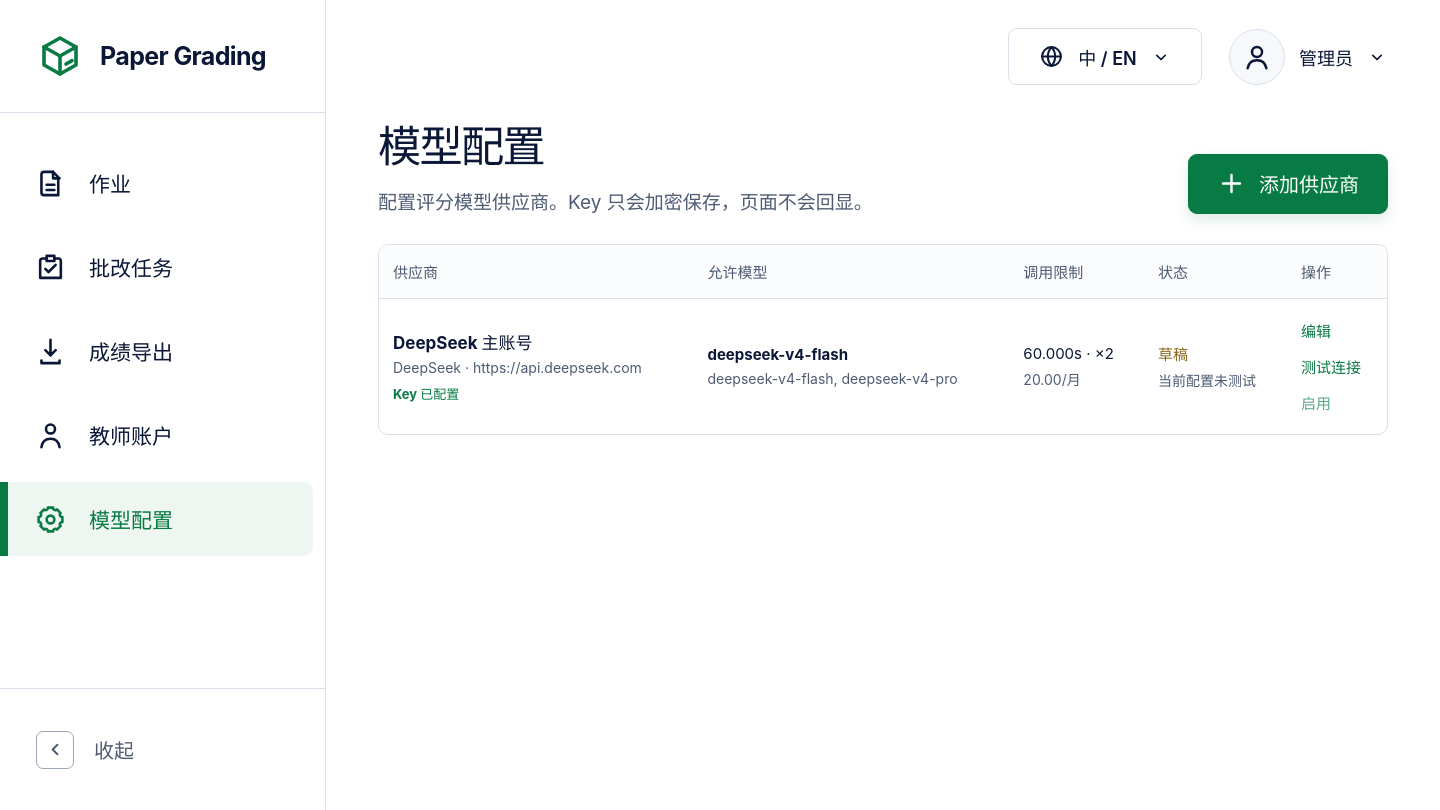
Test: 管理员模型配置 › 编辑时 Key 输入框为空，创建后也不在页面回显
The image size is (1440, 810).
Expected: the text "DeepSeek 主账号" is shown, [393,334,532,354]
Click the button "编辑": (1316, 330) [1301,315,1331,346]
(page scrolled)
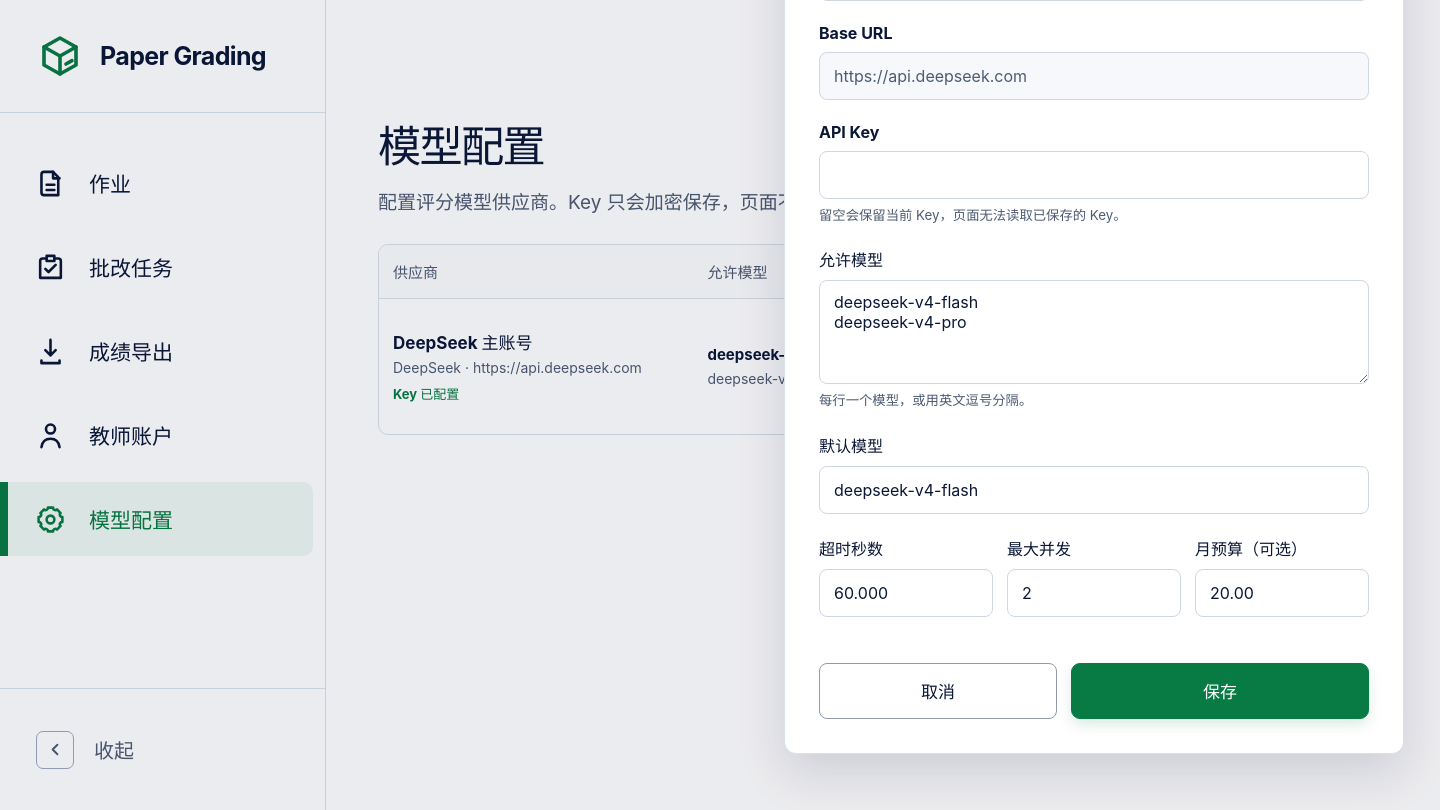
Expected: the password field labelled "API Key" is empty, [819,151,1369,199]
Click the button "取消": (938, 691) [819,663,1057,719]
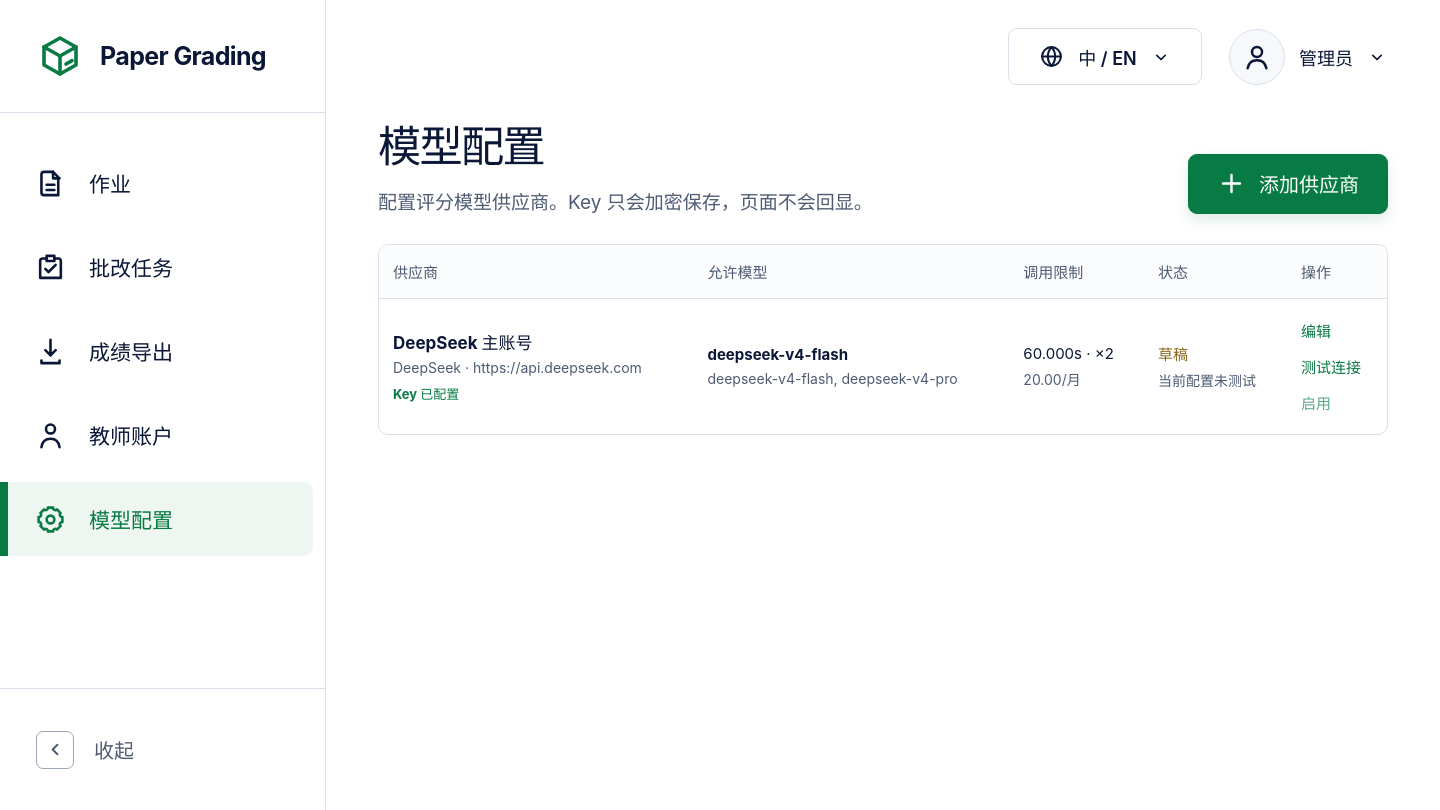
Click the button "添加供应商": (1288, 184) [1188,154,1388,214]
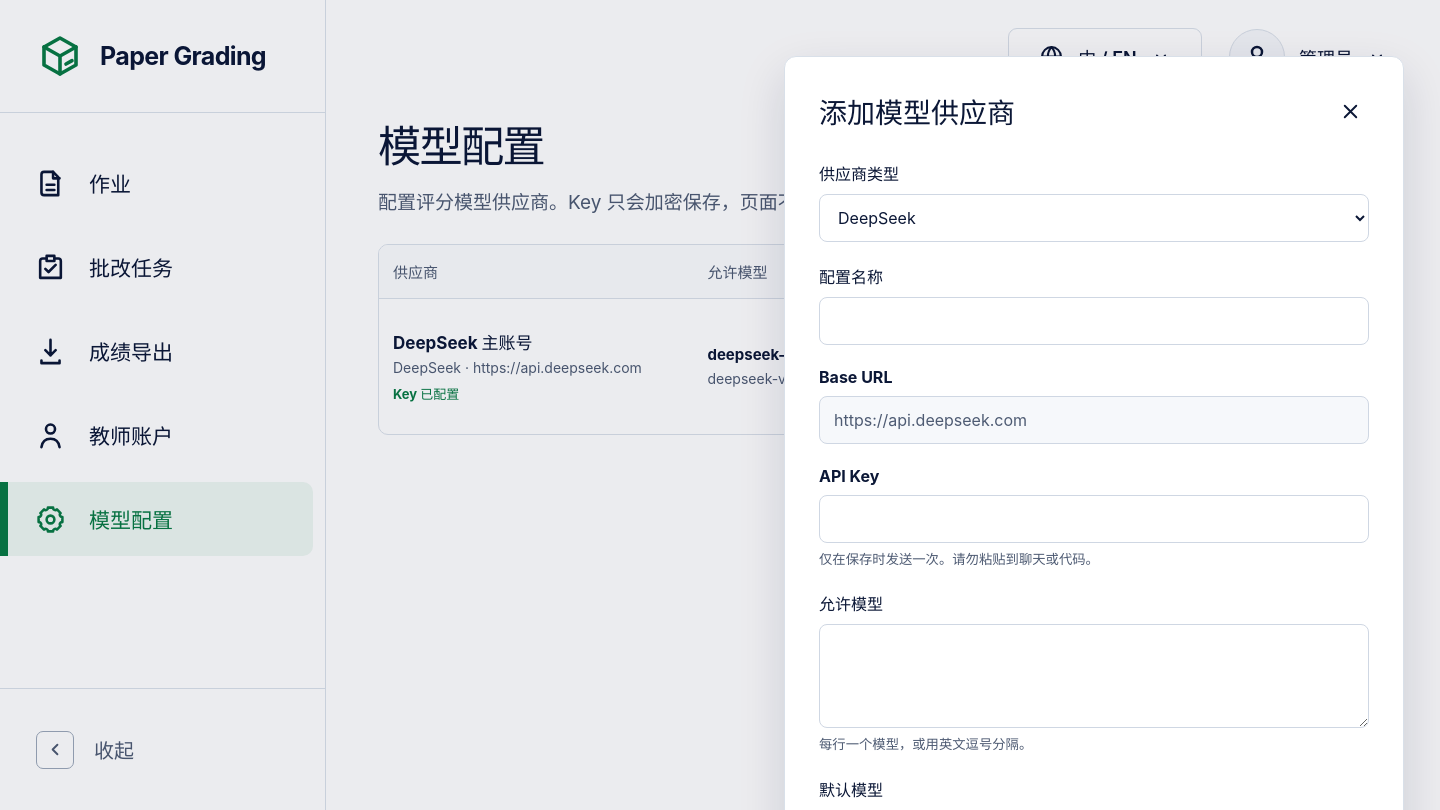
In the field labelled "配置名称": (1094, 321) [819,297,1369,345], type "DeepSeek 新账号"
In the password field labelled "API Key": (1094, 519) [819,495,1369,543], type "one-time-canary"
In the text box labelled "允许模型": (1094, 676) [819,624,1369,728], type "deepseek-v4-flash"
(page scrolled)
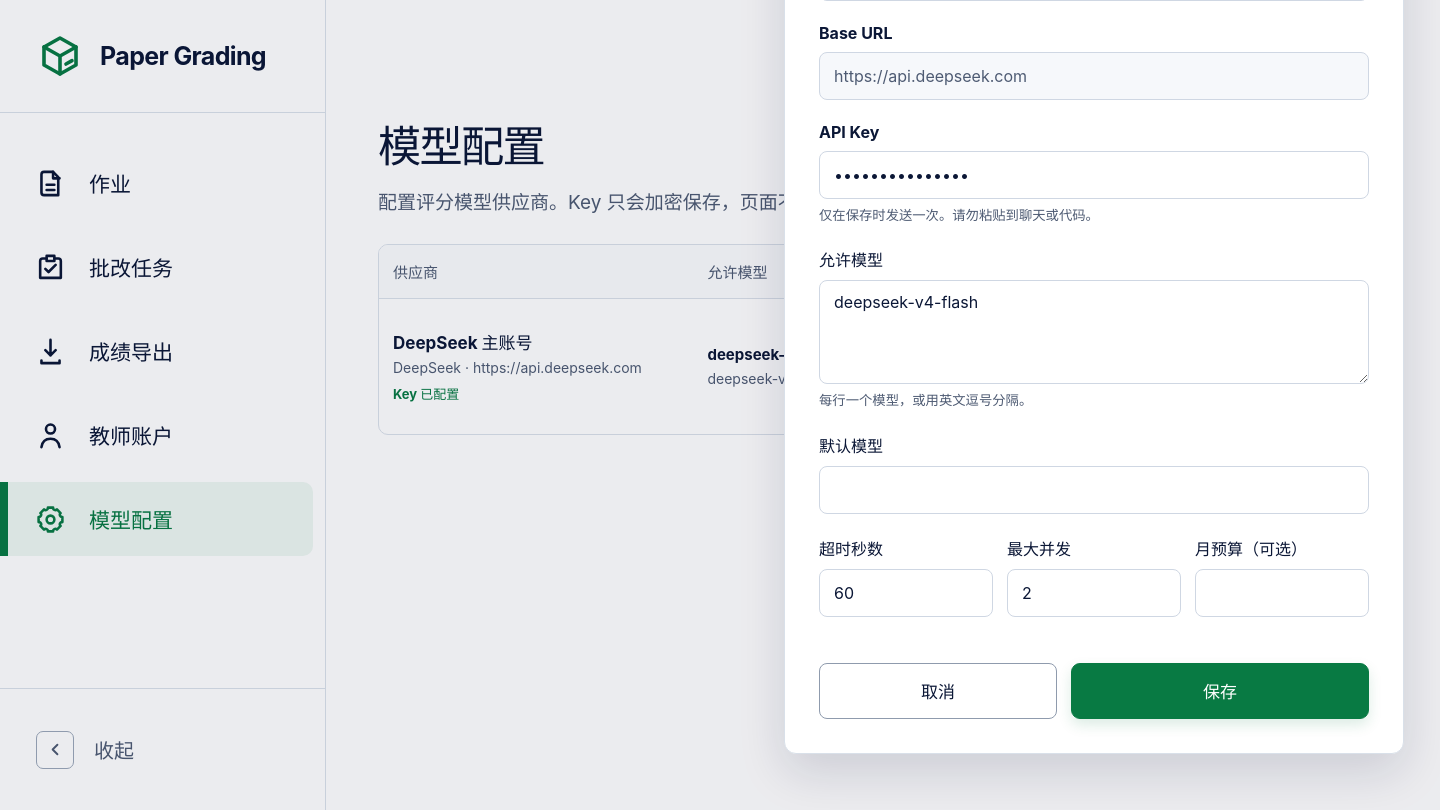
In the field labelled "默认模型": (1094, 490) [819,466,1369,514], type "deepseek-v4-flash"
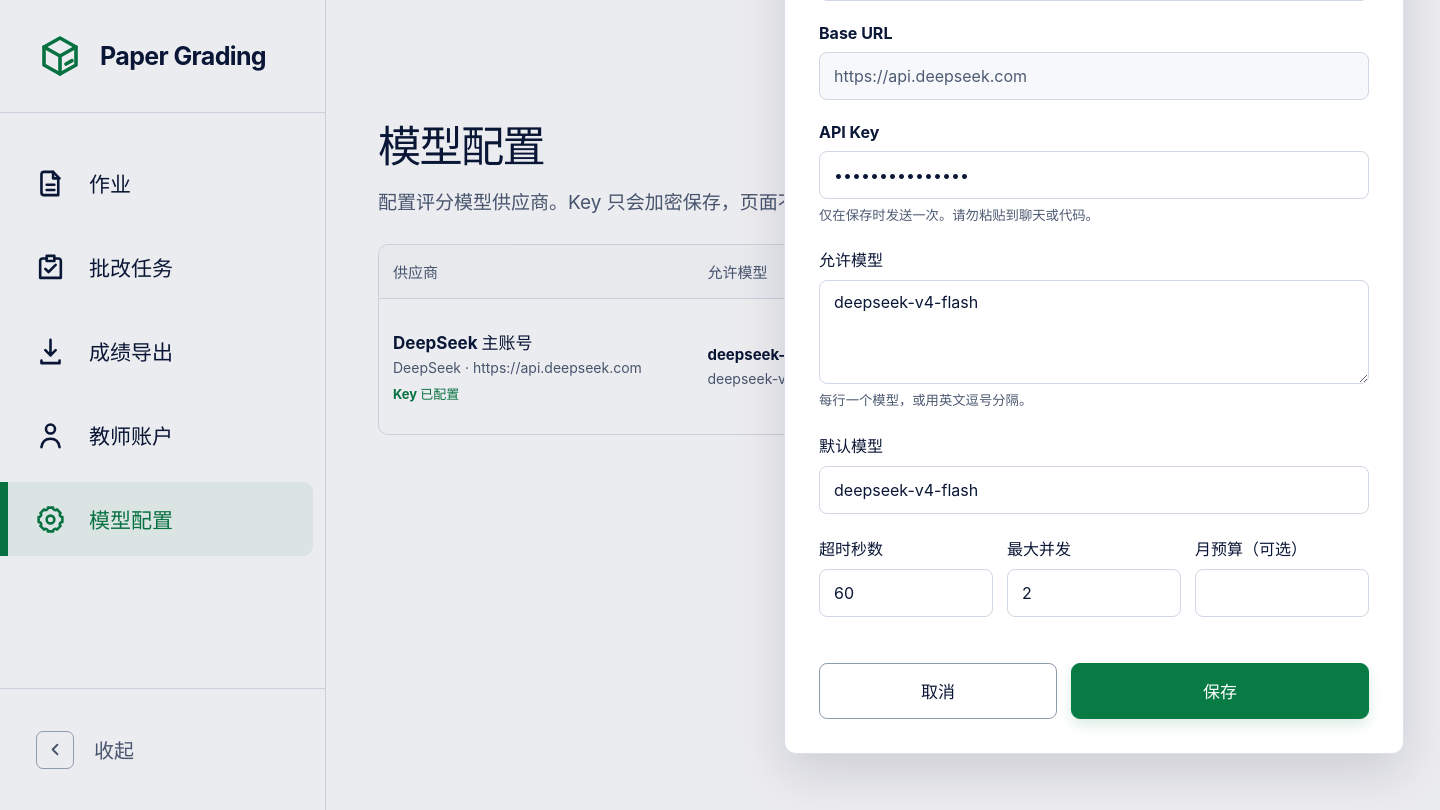
Click the button "保存": (1220, 691) [1071,663,1369,719]
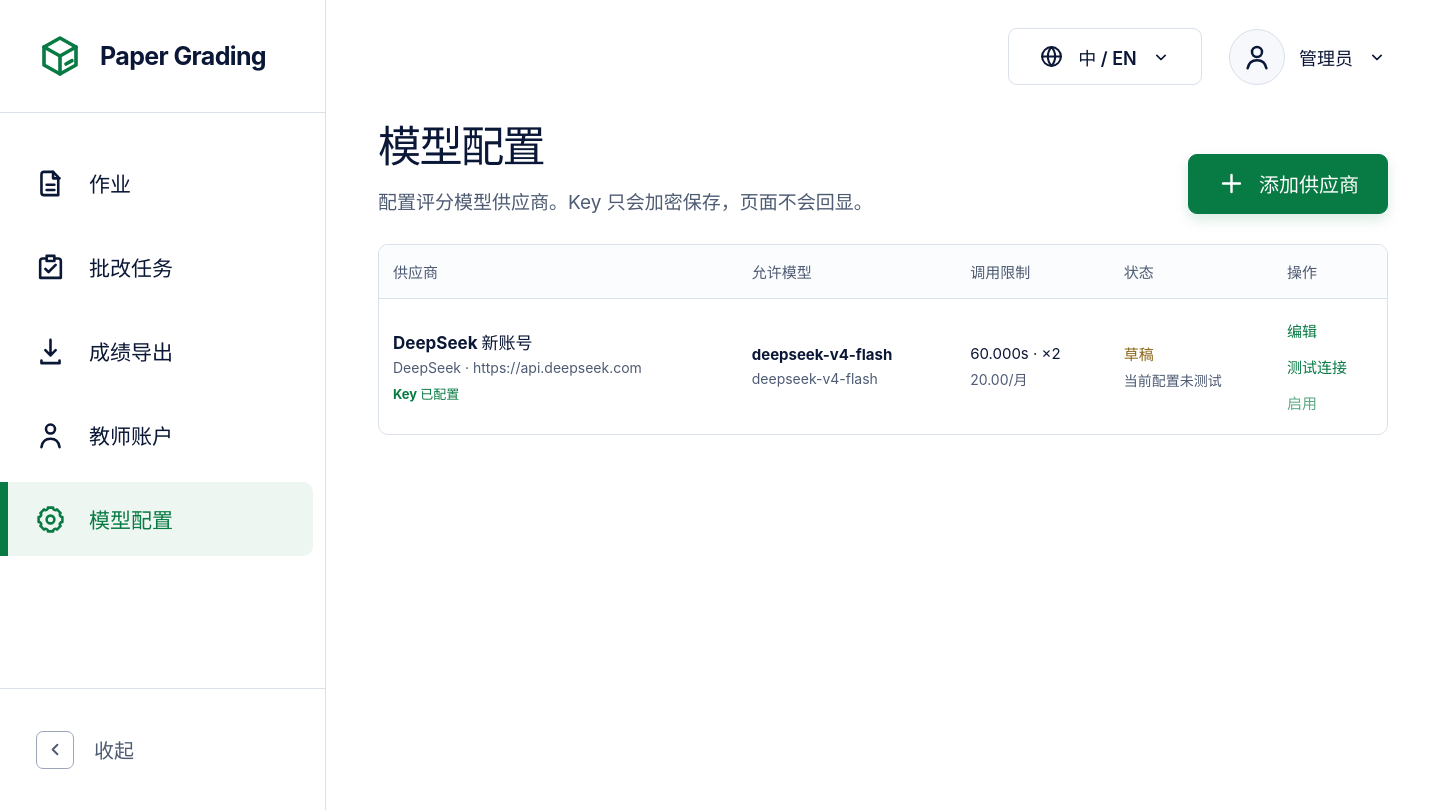
Expected: the text "DeepSeek 新账号" is shown, [393,334,532,354]
